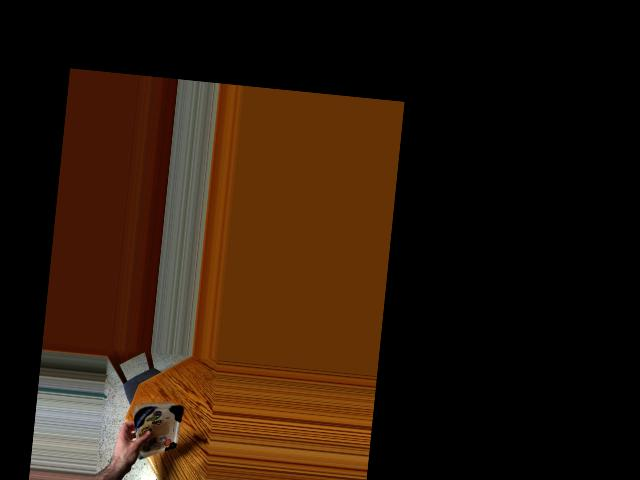cheese: (128, 395, 181, 451)
